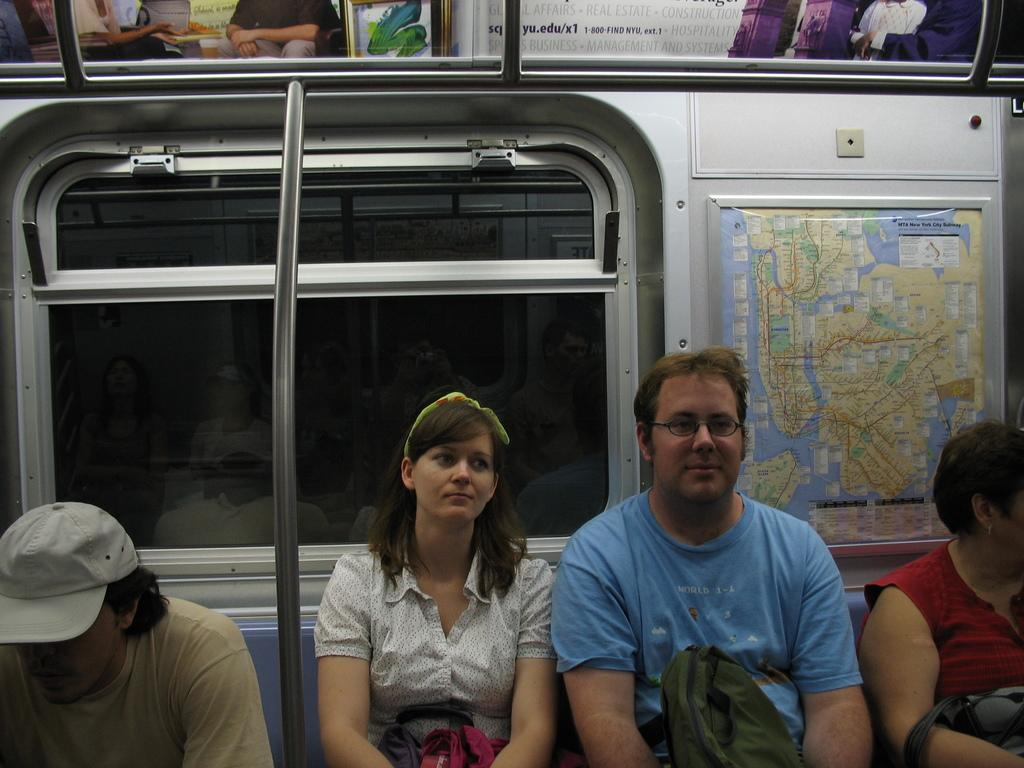Hat: (0, 500, 145, 643)
